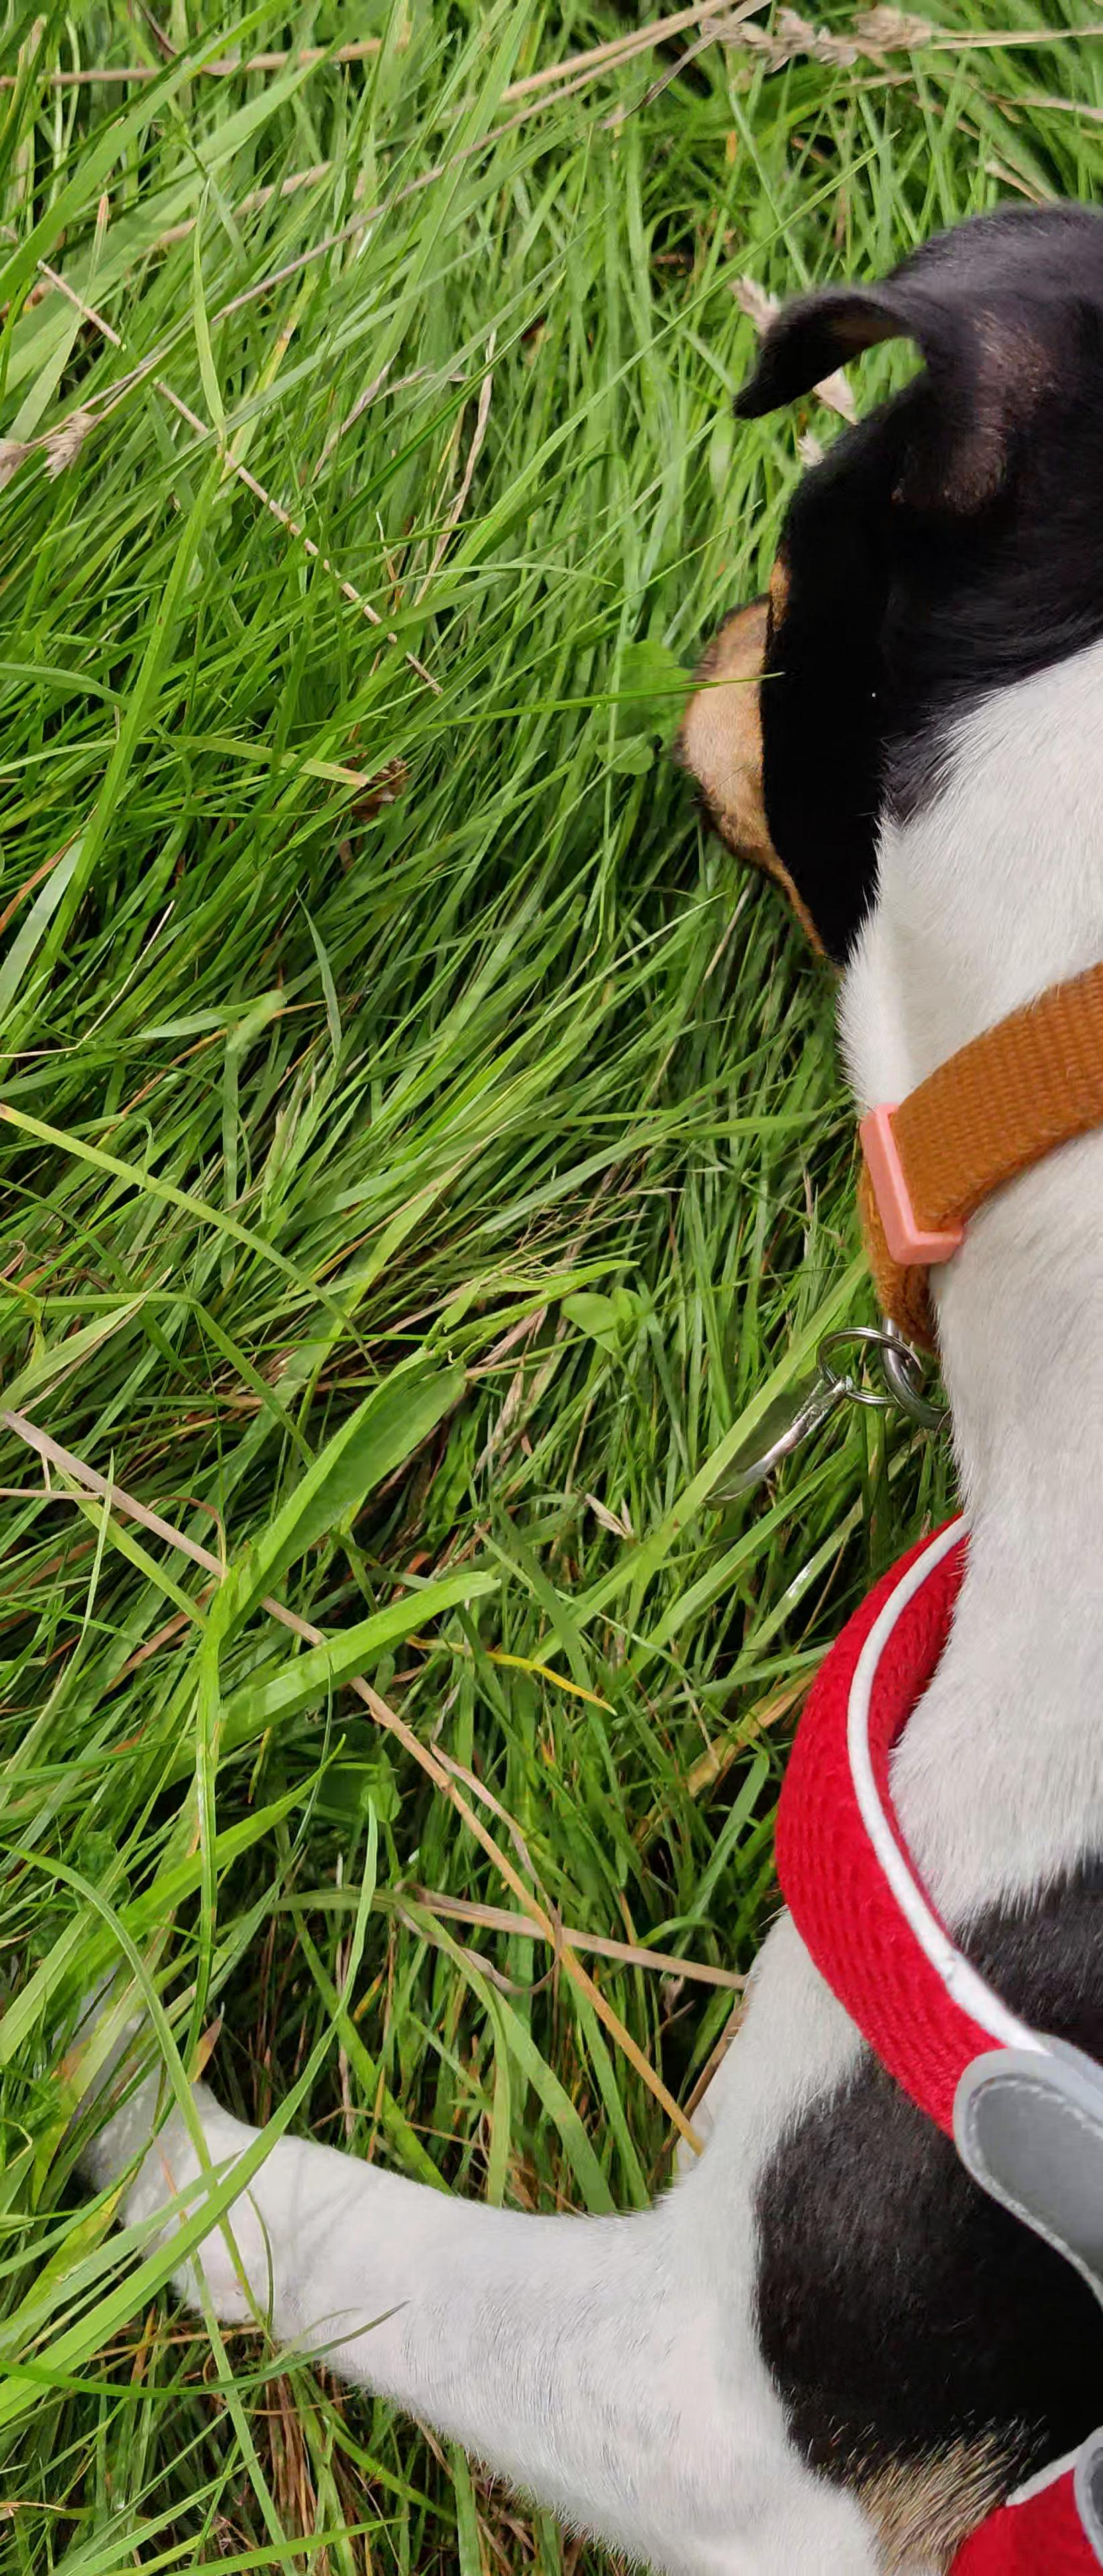Dog: (71, 176, 1103, 2576)
